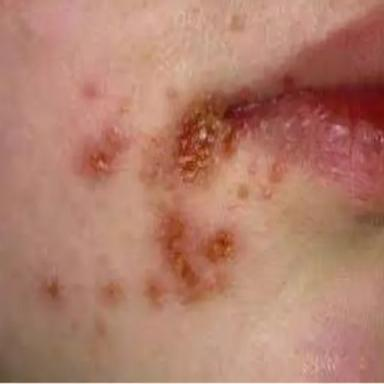Impetigo: (158, 213, 235, 301), (168, 94, 237, 184), (84, 126, 133, 175)
